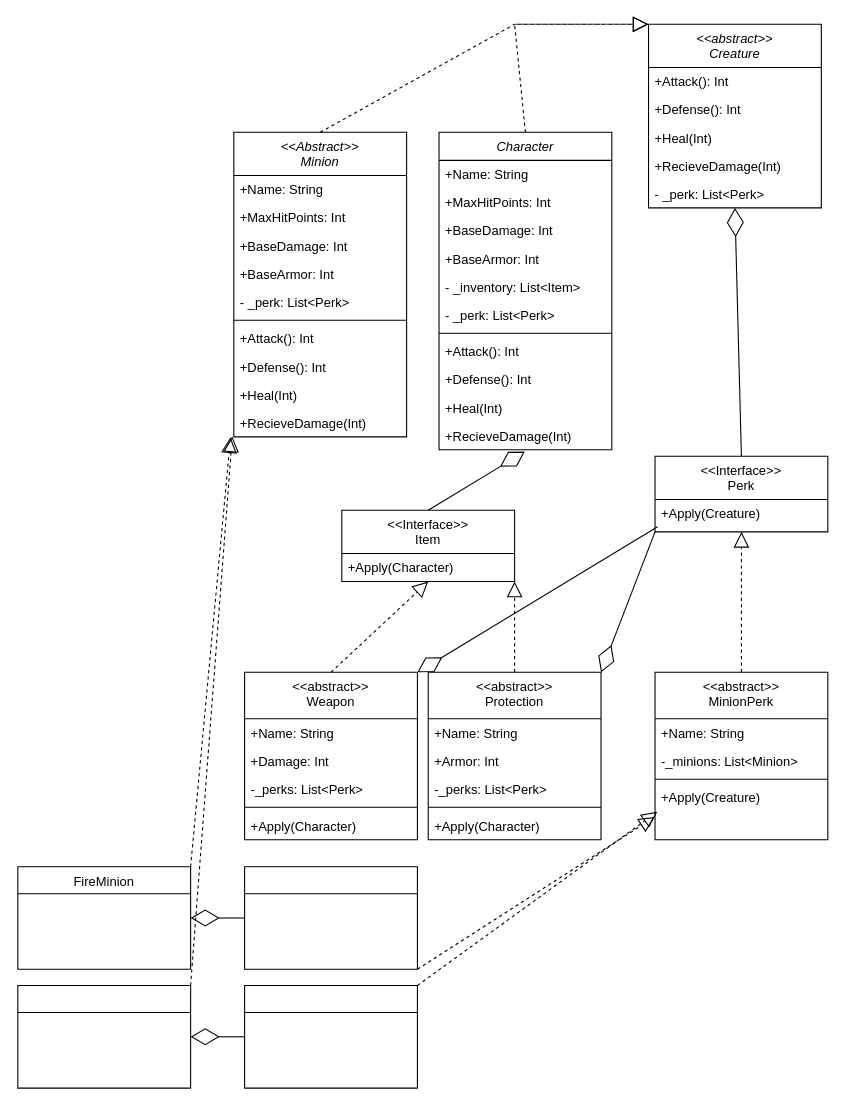
Some shapes in this 846 by 1106 pixel diagram are drawn without their labels. Here are the shapes that lost their labels. From the top down, the centre of each, then its label:
(330,917): FireMinionPerk
(104,1036): IceMinion
(330,1036): IceMinionPerk
